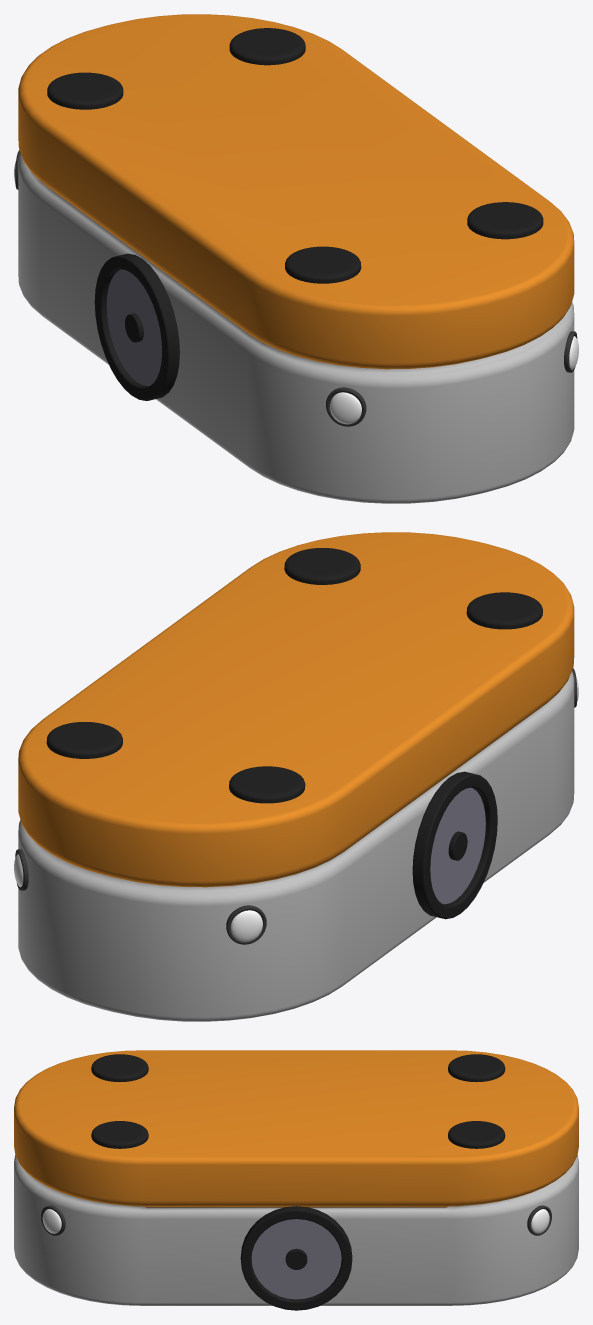
File: dipan.glb
3 renders of one model, top to bottom at view 1: azimuth 30°, elevation 25°; view 2: azimuth 150°, elevation 25°; view 3: azimuth 270°, elevation 25°, orthographic. The views are drawn at different scales.
Parts seen in each view (by area): view 1: dipanrobo_zj6, dipanrobo_zj1, dipanrobo_zj3, dipanrobo_zj2, dipanrobo_zj5, dipanrobo_zj4; view 2: dipanrobo_zj6, dipanrobo_zj1, dipanrobo_zj3, dipanrobo_zj2, dipanrobo_zj5, dipanrobo_zj4; view 3: dipanrobo_zj6, dipanrobo_zj2, dipanrobo_zj1, dipanrobo_zj3, dipanrobo_zj5, dipanrobo_zj4, dipanrobo_zj7.
Boxes of the visible parts, bbox=[...] form: dipanrobo_zj6: bbox=[18, 14, 574, 503]; dipanrobo_zj1: bbox=[47, 28, 543, 283]; dipanrobo_zj3: bbox=[94, 253, 179, 400]; dipanrobo_zj2: bbox=[106, 269, 161, 386]; dipanrobo_zj5: bbox=[14, 160, 578, 424]; dipanrobo_zj4: bbox=[15, 150, 577, 426]; dipanrobo_zj6: bbox=[18, 532, 574, 1021]; dipanrobo_zj1: bbox=[46, 548, 542, 803]; dipanrobo_zj3: bbox=[412, 771, 497, 919]; dipanrobo_zj2: bbox=[430, 787, 485, 904]; dipanrobo_zj5: bbox=[14, 677, 578, 941]; dipanrobo_zj4: bbox=[15, 668, 577, 944]; dipanrobo_zj6: bbox=[14, 1050, 578, 1305]; dipanrobo_zj2: bbox=[251, 1219, 341, 1299]; dipanrobo_zj1: bbox=[91, 1054, 505, 1148]; dipanrobo_zj3: bbox=[240, 1206, 352, 1310]; dipanrobo_zj5: bbox=[42, 1209, 549, 1233]; dipanrobo_zj4: bbox=[41, 1205, 551, 1235]; dipanrobo_zj7: bbox=[285, 1248, 307, 1269].
Size of the model in its own units: 2.09 by 1.24 by 4.12.
